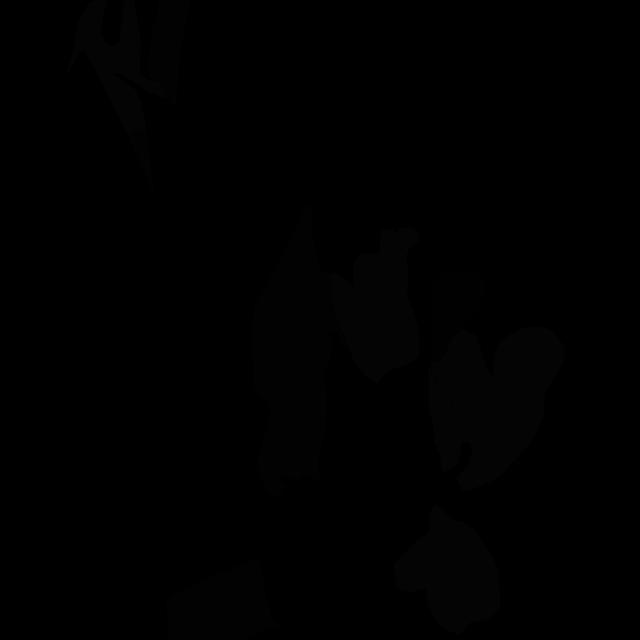cardboard: (252, 204, 348, 499), (166, 556, 280, 640), (148, 0, 190, 109), (128, 129, 155, 199)
rigid_plastic: (430, 269, 486, 362)
soft_plastic: (430, 327, 565, 490), (66, 0, 168, 137), (394, 504, 500, 635), (332, 227, 419, 383), (428, 365, 461, 475)
